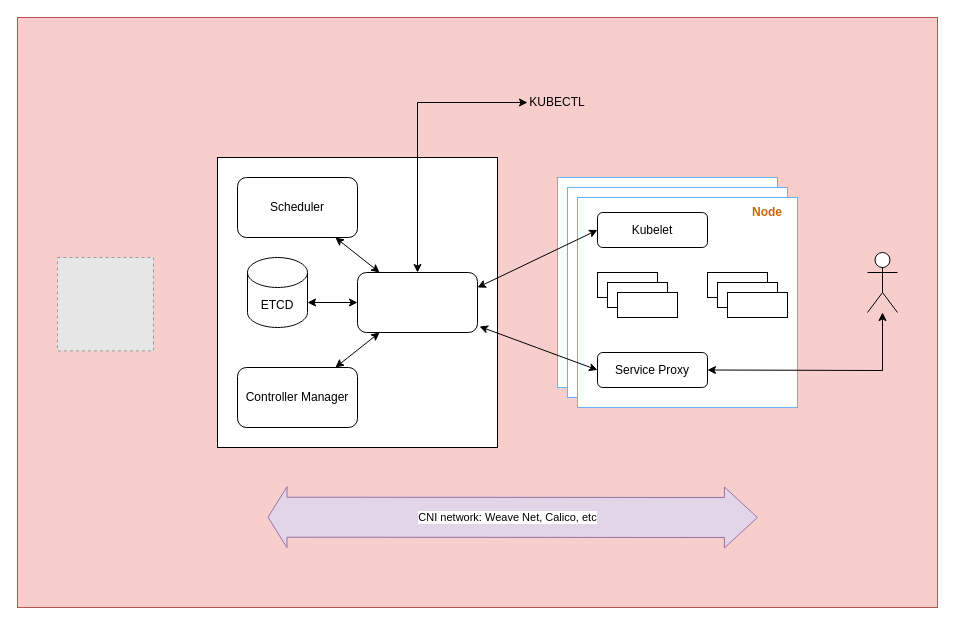
This 955x625 diagram has some shape labels left out. Grey dashed boxes stand in for pictures. The shapes that lost their labels are listed below. From the top down, each one's centre as x and y in pixels, then its label:
the point at 417,302: API Server
the point at 882,282: User
